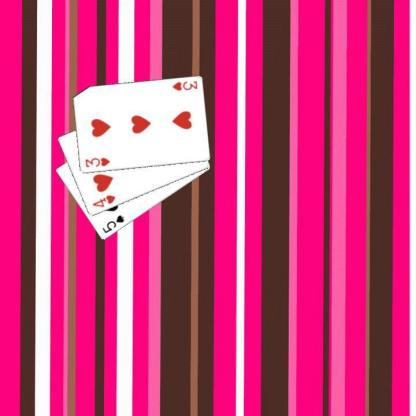3H: (83, 155, 111, 169), (170, 78, 198, 92)
4H: (90, 192, 116, 209)
5S: (100, 212, 126, 235)
